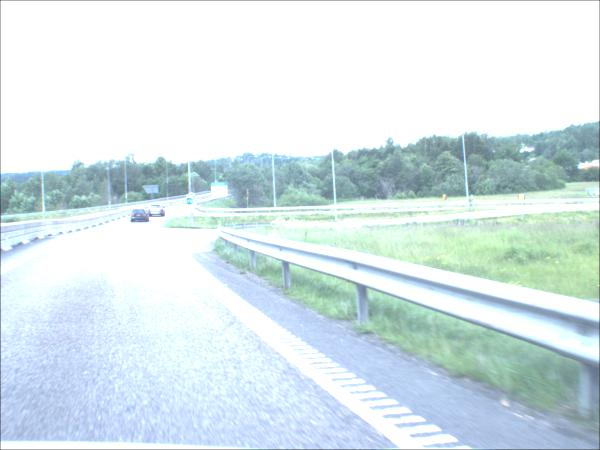70_SIGN: (520, 195, 526, 202), (444, 195, 450, 201)
PASS_RIGHT_SIDE: (188, 199, 195, 206)
